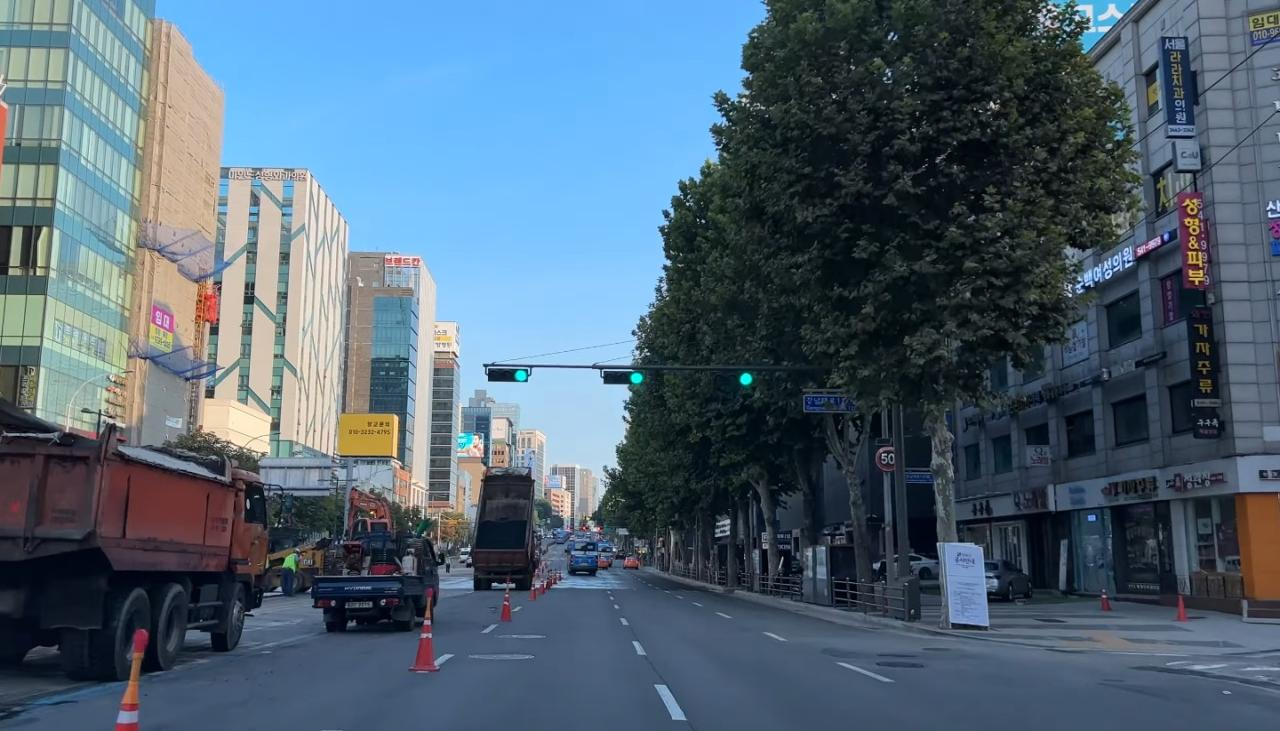Green Light: (514, 369, 528, 382), (739, 373, 752, 386), (629, 372, 643, 384)
